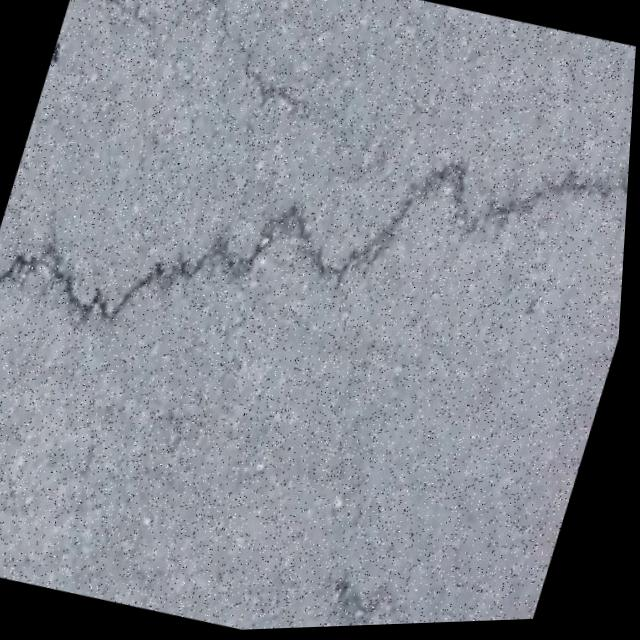Crack: (0, 27, 638, 485), (71, 0, 322, 101)
